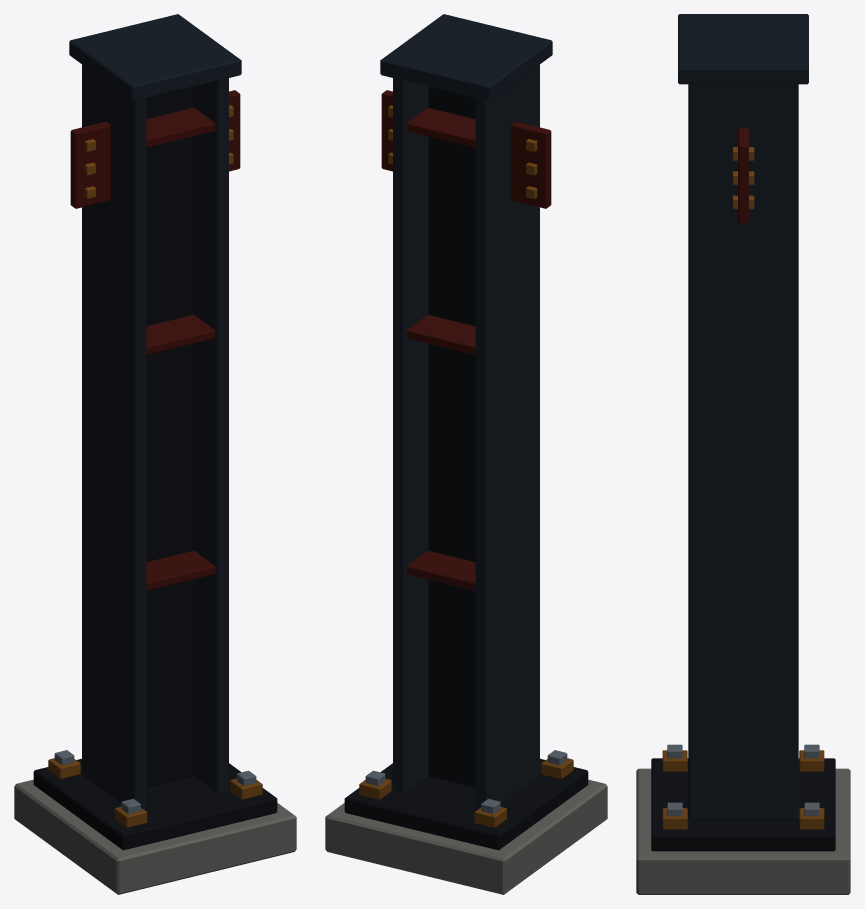
File: mod_steel_h_column_3m.glb
3 views of the same model, side by side, from view 1: azimuth 30°, elevation 25°; view 2: azimuth 150°, elevation 25°; view 3: azimuth 270°, elevation 25° (orthographic). The views are drawn at different scales.
Parts seen in each view (by area): view 1: Mod_Steel_H_Column_3m; view 2: Mod_Steel_H_Column_3m; view 3: Mod_Steel_H_Column_3m.
Part boxes in pixels (box(x1,y1,x2,y2)): Mod_Steel_H_Column_3m: box(14, 14, 296, 894); Mod_Steel_H_Column_3m: box(325, 14, 607, 894); Mod_Steel_H_Column_3m: box(636, 14, 850, 894).
Bounding box in the file's own units: 0.72 × 3 × 0.72.
